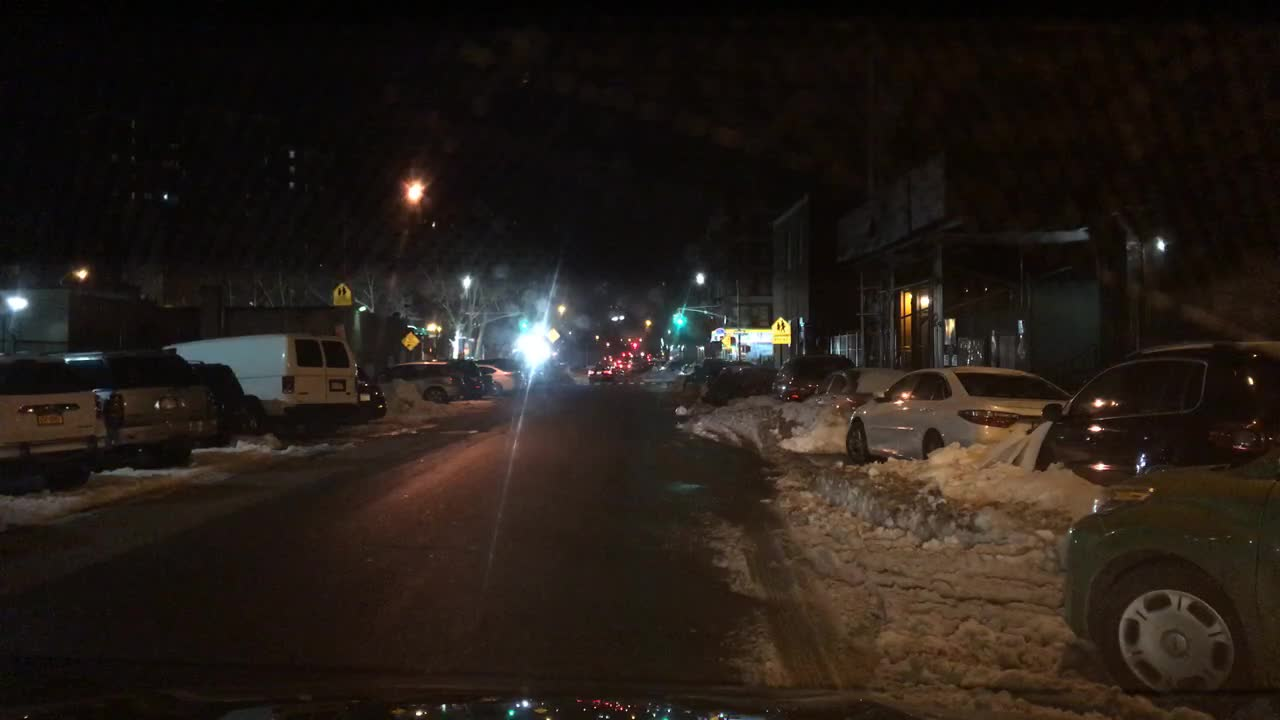car: (1061, 445, 1278, 717), (1037, 340, 1278, 472), (844, 365, 1072, 463), (156, 333, 357, 439), (60, 349, 213, 469), (1, 353, 108, 493), (189, 359, 253, 442), (813, 365, 914, 409), (771, 353, 856, 404), (374, 361, 466, 404), (433, 357, 497, 398), (685, 357, 751, 395), (351, 361, 387, 423), (720, 360, 777, 398), (475, 355, 528, 391), (478, 358, 524, 394), (584, 364, 616, 382), (635, 357, 650, 370), (617, 361, 632, 370)
traffic light: (673, 307, 683, 327), (517, 313, 526, 332), (627, 338, 639, 351), (720, 335, 728, 347), (728, 335, 735, 347)
traffic sign: (768, 317, 790, 344), (333, 280, 351, 304), (398, 332, 420, 348), (542, 327, 558, 342)
